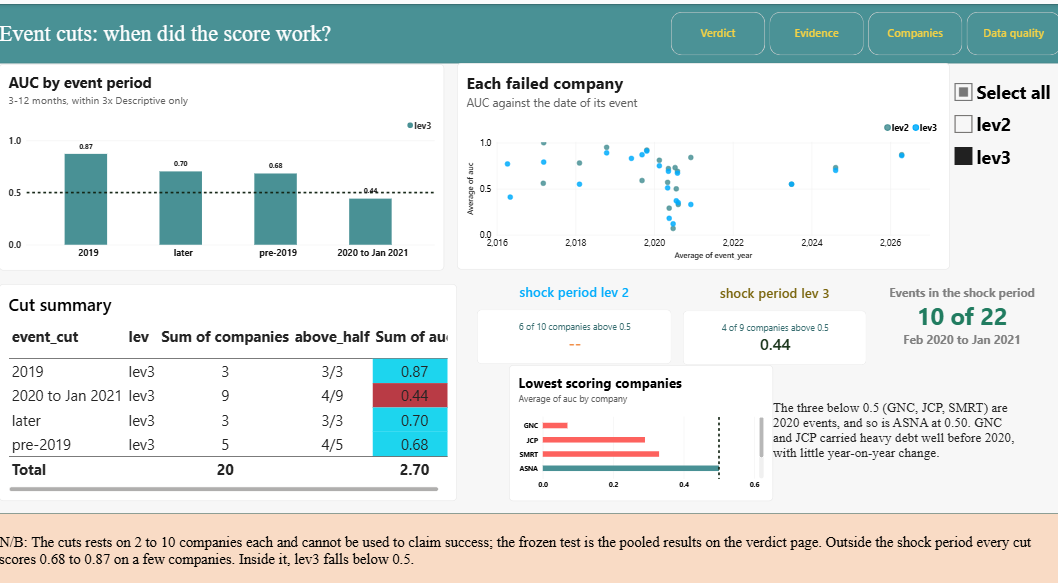

Layout of this report page (visuals, bound fields, positions):
{"tool":"powerbi","page":{"name":"Events cuts","canvas":[1920,1080],"ordinal":2},"visuals":[{"type":"clusteredColumnChart","title":"AUC by event period","fields":{"Series":["retail_risk v_event_cuts.lev"],"Y":["Avg(retail_risk v_event_cuts.auc)"],"Category":["retail_risk v_event_cuts.event_cut"]},"box":[0,108,803.6,373.4],"z":0},{"type":"shape","box":[0,0,1920,107.4],"z":1000},{"type":"slicer","fields":{"Values":["retail_risk v_event_cuts.lev"]},"box":[1717.7,128,183.7,210.6],"z":2000},{"type":"scatterChart","title":"Each failed company","fields":{"X":["Avg(retail_risk v_company_events.event_year)"],"Y":["Avg(retail_risk v_company_events.auc)"],"Series":["retail_risk v_company_events.lev"],"Category":["retail_risk v_company_events.company"]},"box":[827.9,107.4,889.6,373.4],"z":3000},{"type":"tableEx","title":"Cut summary","fields":{"Values":["retail_risk v_event_cuts.event_cut","retail_risk v_event_cuts.lev","Sum(retail_risk v_event_cuts.companies)","retail_risk v_event_cuts.above_half","Sum(retail_risk v_event_cuts.auc)"]},"box":[0,505.2,827.4,391.7],"z":4000},{"type":"cardVisual","title":"shock  period lev 2","fields":{"Data":["Avg(retail_risk v_event_cuts.auc)"]},"box":[863,503.7,351.5,146.4],"z":5000},{"type":"textbox","box":[1591.7,505.8,296.5,146.4],"z":6000},{"type":"clusteredBarChart","title":"Lowest scoring companies","fields":{"Y":["Avg(retail_risk v_company_events.auc)"],"Category":["retail_risk v_company_events.company"]},"box":[920.7,651.7,476.9,245.7],"z":7000},{"type":"shape","box":[0,918.9,1920,136.3],"z":8000},{"type":"textbox","box":[1398.5,677.3,445.9,194.1],"z":9000},{"type":"cardVisual","title":"shock  period lev 3","fields":{"Data":["Avg(retail_risk v_event_cuts.auc)"]},"box":[1234.6,505.8,331.3,146.4],"z":10000},{"type":"pageNavigator","box":[1213.9,14.5,706.1,78.5],"z":10001}]}

Visuals, with their boxes in screenshot pixels (x1, y1, x2, y2), scaled from the page's 1920x1080 canvas onto the 1058x583 screenshot:
"AUC by event period" clusteredColumnChart: 0 58 443 260
shape: 0 0 1057 58
slicer - retail_risk v_event_cuts.lev: 947 69 1048 183
"Each failed company" scatterChart: 456 58 946 260
"Cut summary" tableEx: 0 273 456 484
"shock  period lev 2" cardVisual: 476 272 669 351
textbox: 877 273 1040 352
"Lowest scoring companies" clusteredBarChart: 507 352 770 484
shape: 0 496 1057 570
textbox: 771 366 1016 470
"shock  period lev 3" cardVisual: 680 273 863 352
pageNavigator: 669 8 1057 50
